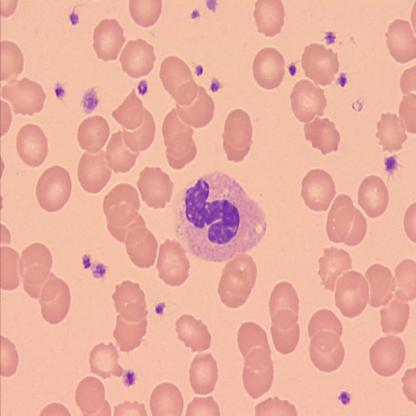Band Neutrophil: (173, 168, 268, 264)
